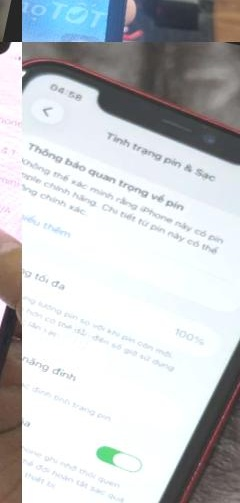scratch: (22, 64, 32, 84)
